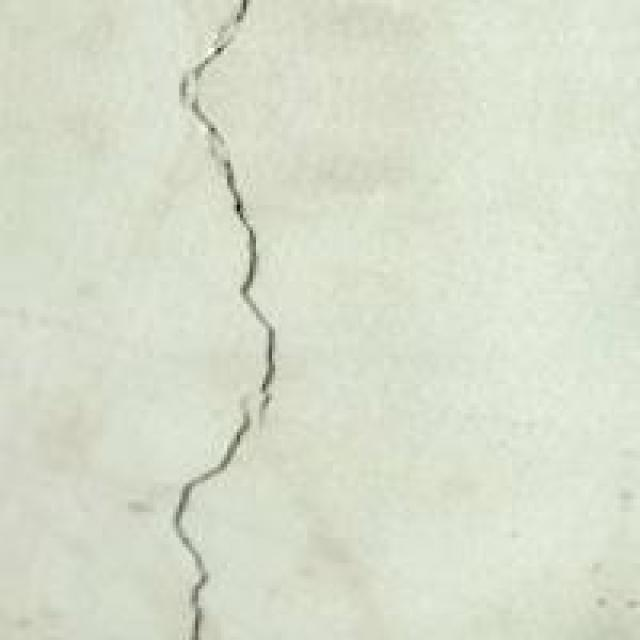crack: (110, 0, 322, 640)
